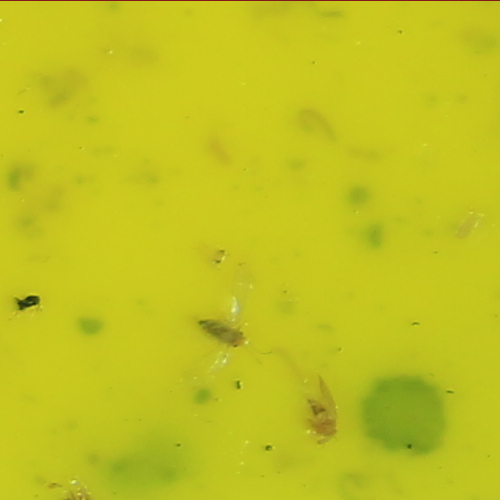psylla: (196, 310, 253, 353), (302, 391, 341, 444)
